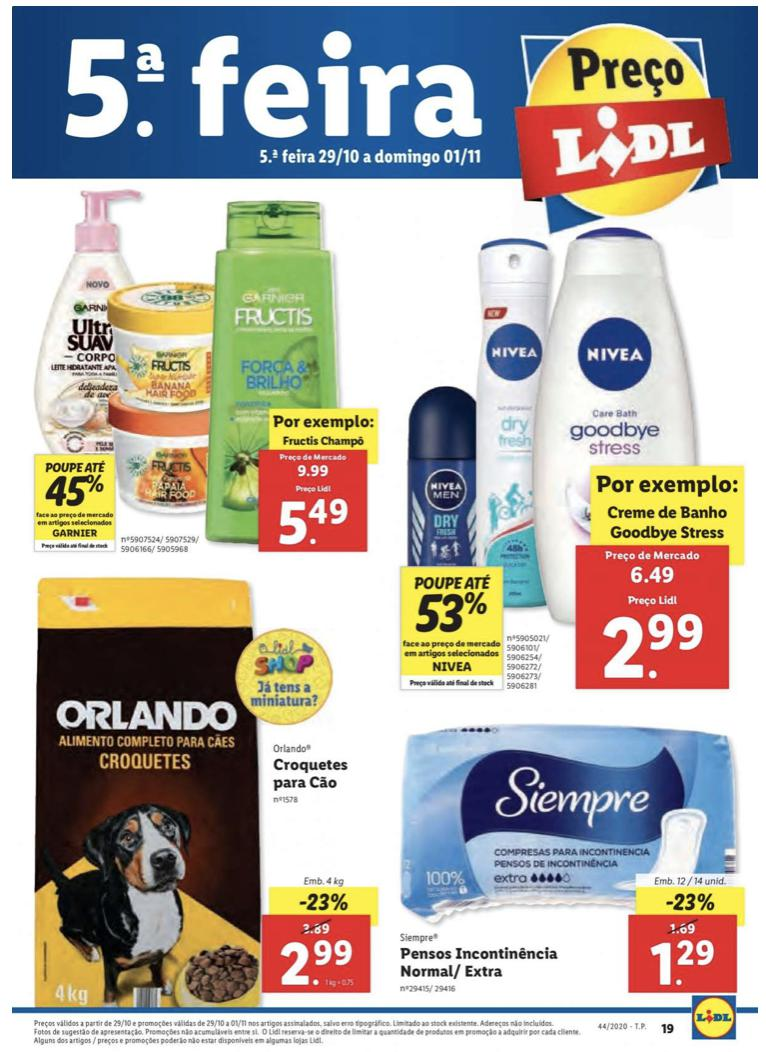name: (393, 944, 566, 982), (270, 756, 350, 795)
price: (580, 591, 728, 690), (258, 479, 370, 554), (264, 934, 370, 992), (636, 934, 729, 992)
product: (390, 225, 754, 704), (15, 579, 379, 1006), (12, 182, 383, 570), (392, 717, 754, 999)
promotion: (401, 569, 505, 675), (32, 453, 112, 538), (292, 888, 357, 914), (658, 888, 719, 915)
